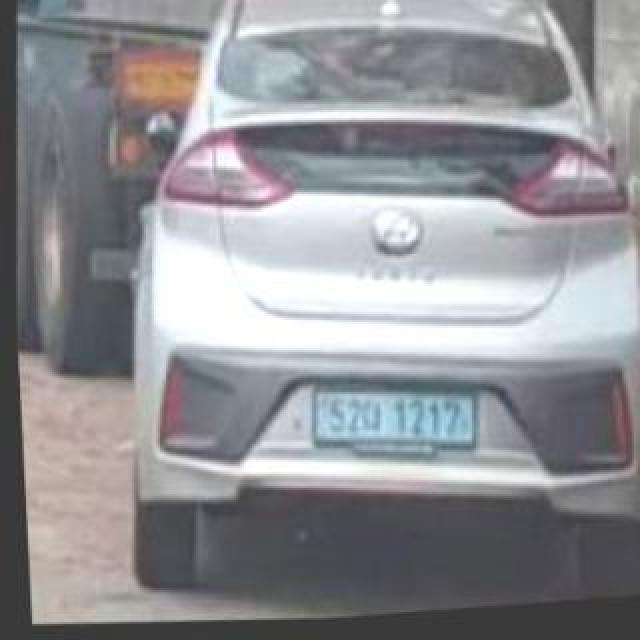EV_plate: (309, 380, 486, 462)
car: (119, 0, 640, 607)
